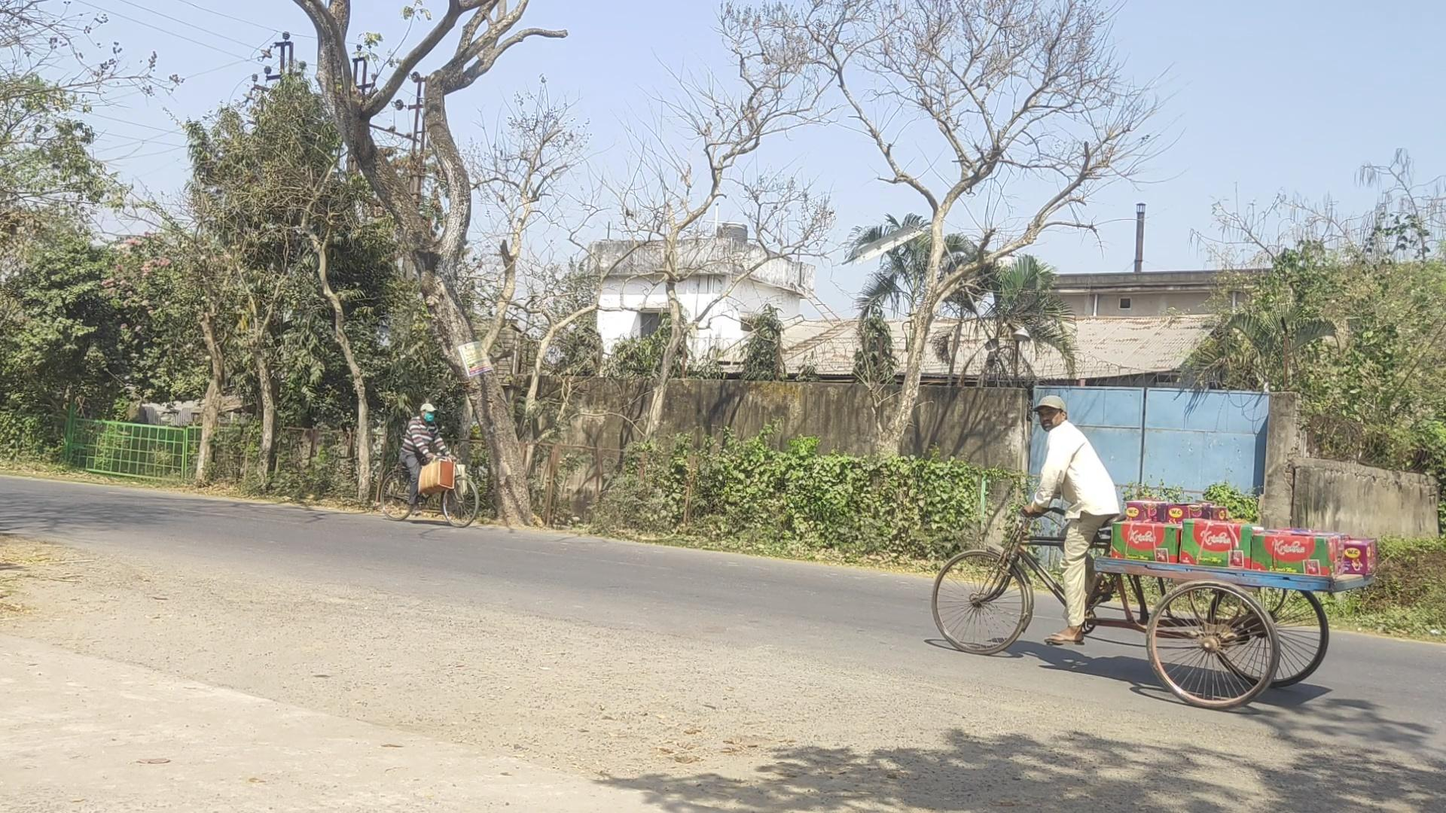bike: (379, 403, 480, 528)
